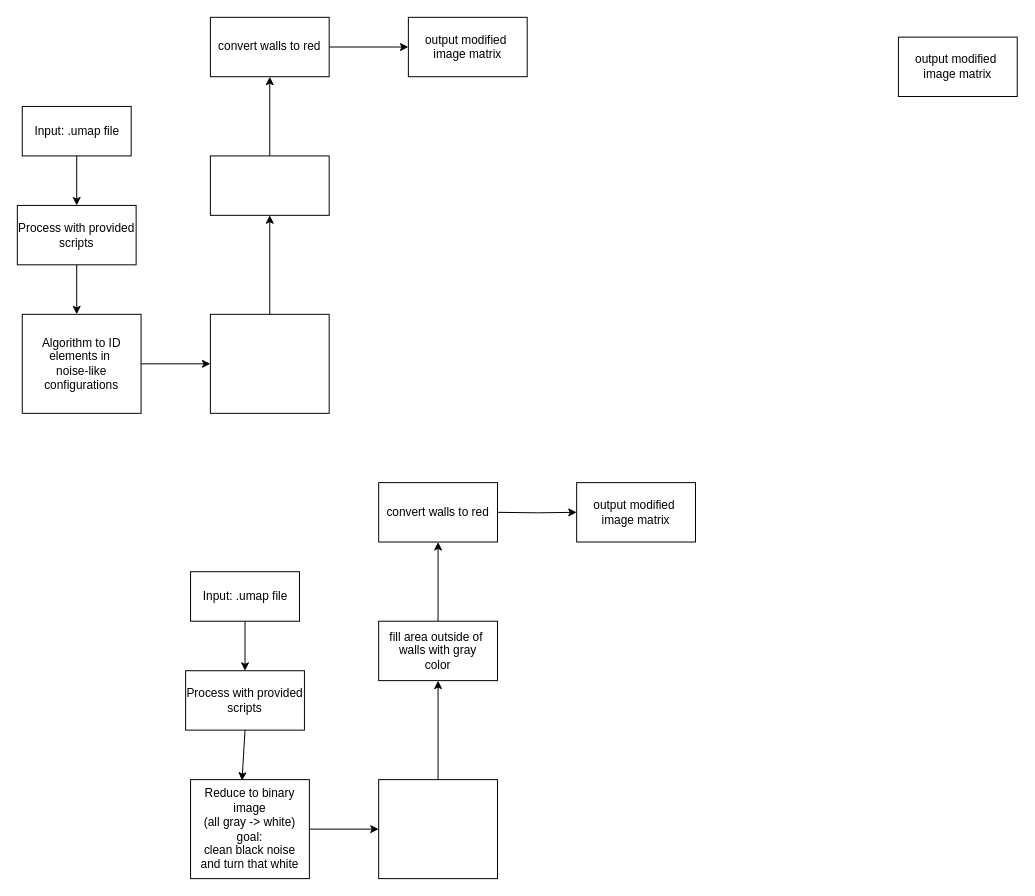
Image size: 1035x896. Some labels were removed from this diagram. The centre of each missing label's shape, as x and y in pixels:
Algorithm to identify existing boundaries as walls: point (437, 829)
Convert to binary image and run image morphology tools: point (269, 363)
Infer boundaries as walls, fill black area outside of wall area with gray: point (269, 185)
